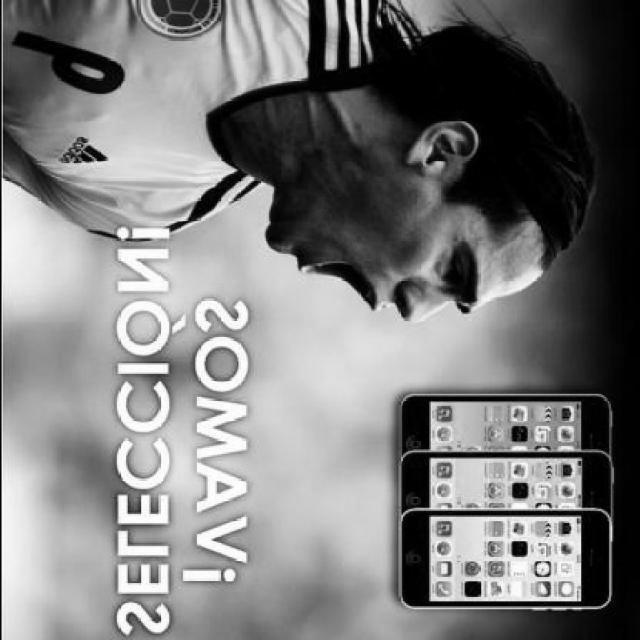fake: (393, 399, 612, 612)
